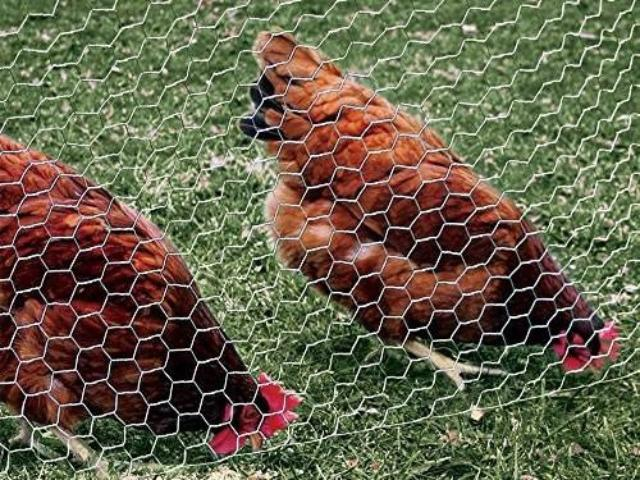Chicken: (243, 30, 620, 387), (0, 133, 301, 461)
